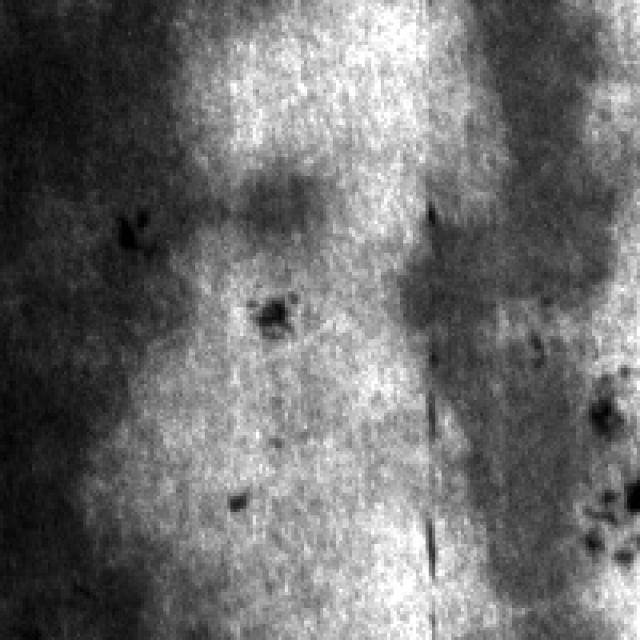inclusion: (576, 388, 640, 566), (243, 278, 317, 352)
patches: (3, 0, 221, 637), (426, 0, 608, 637)
